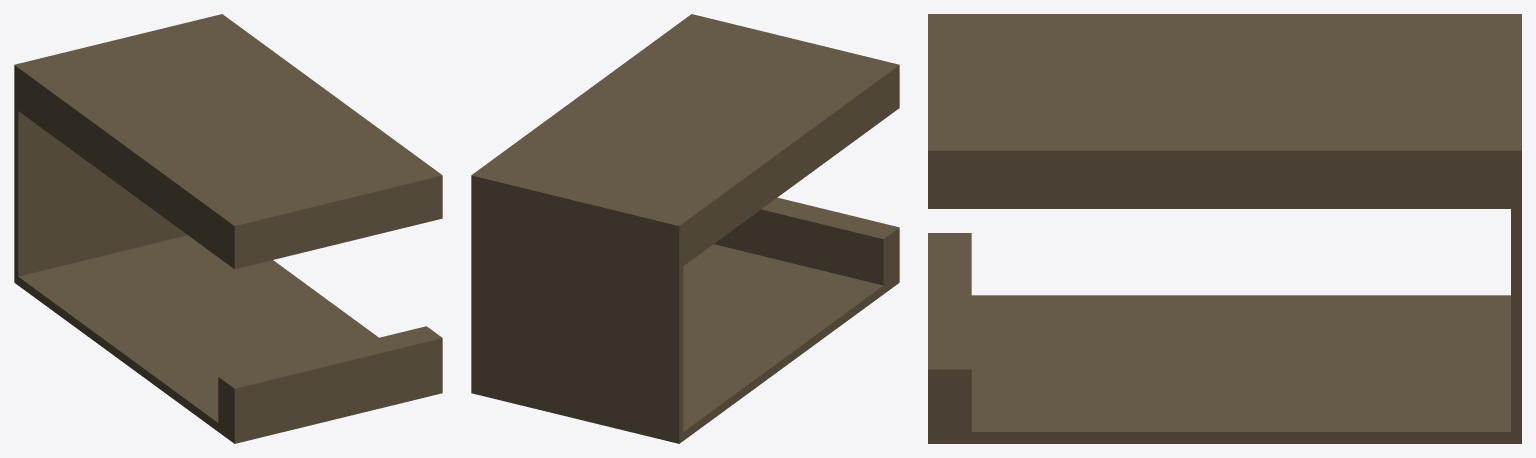
File: middle_floor_wall_01.fbx
3 views of the same model, side by side, from view 1: azimuth 30°, elevation 25°; view 2: azimuth 150°, elevation 25°; view 3: azimuth 270°, elevation 25° (orthographic). The views are drawn at different scales.
Visible parts, largest first — view 1: middle_floor_wall_01; view 2: middle_floor_wall_01; view 3: middle_floor_wall_01.
Boxes of the visible parts, x1,y1,x2,y2 form: middle_floor_wall_01: (14,14,442,443); middle_floor_wall_01: (471,14,899,443); middle_floor_wall_01: (928,14,1521,443).
Bounding box in the file's own units: 300 × 300 × 551.
